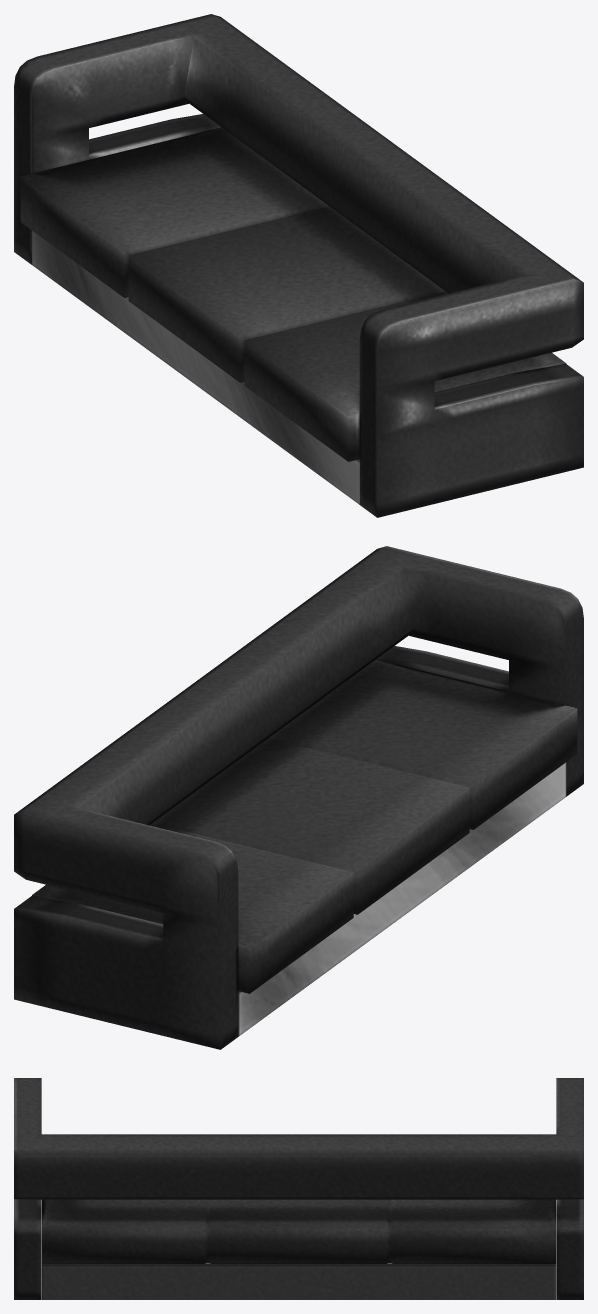
The model's file is 3Dguoji_HDGS_shafa01_xp_ljw.FBX.
The picture shows the model from 3 angles, top to bottom: view 1: azimuth 30°, elevation 25°; view 2: azimuth 150°, elevation 25°; view 3: azimuth 270°, elevation 25°; orthographic projection. The views are drawn at different scales.
Visible parts, largest first — view 1: 3Dguoji_HDGS_shafa01_xp_ljw; view 2: 3Dguoji_HDGS_shafa01_xp_ljw; view 3: 3Dguoji_HDGS_shafa01_xp_ljw.
Part boxes in pixels (x1=…): 3Dguoji_HDGS_shafa01_xp_ljw: x1=14, y1=14, x2=583, y2=517; 3Dguoji_HDGS_shafa01_xp_ljw: x1=14, y1=546, x2=583, y2=1049; 3Dguoji_HDGS_shafa01_xp_ljw: x1=14, y1=1078, x2=583, y2=1299.
Size of the model in its own units: 0.8863 by 0.7377 by 2.56.
